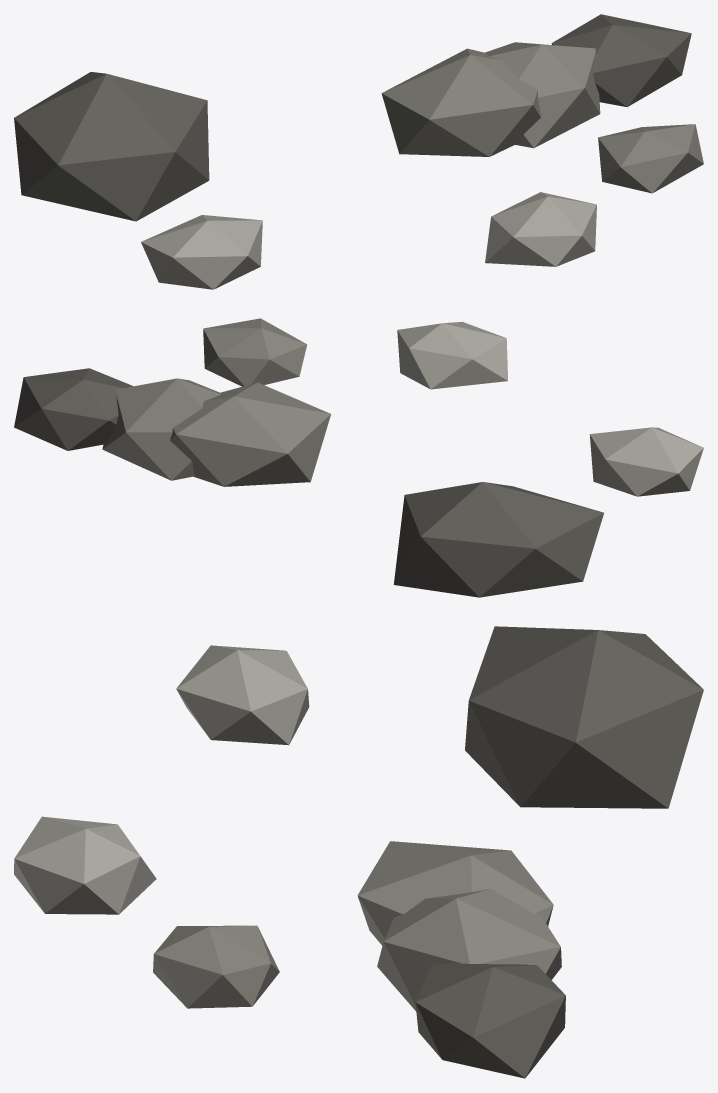
Rendered from SM_Pebbles.glb.
3 renders of one model, top to bottom at view 1: azimuth 30°, elevation 25°; view 2: azimuth 150°, elevation 25°; view 3: azimuth 270°, elevation 25°, orthographic. The views are drawn at different scales.
Parts seen in each view (by area): view 1: SM_Pebbles; view 2: SM_Pebbles; view 3: SM_Pebbles.
Boxes of the visible parts, <box> form: SM_Pebbles: <box>14,14,703,289</box>; SM_Pebbles: <box>14,318,703,597</box>; SM_Pebbles: <box>14,626,703,1078</box>.
Bounding box in the file's own units: 0.4986 × 0.0876 × 0.3658.
1 material, 1 textured.
